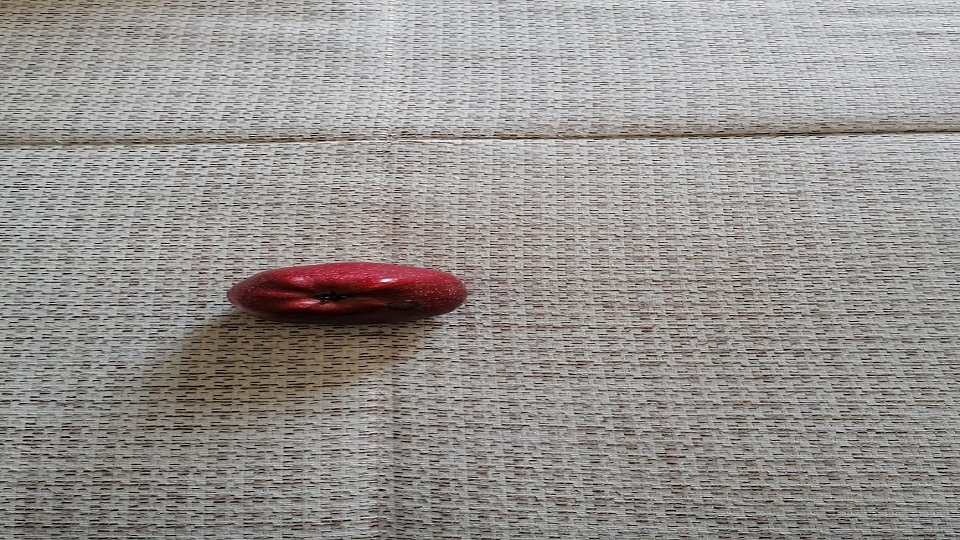elma: (225, 261, 471, 327)
